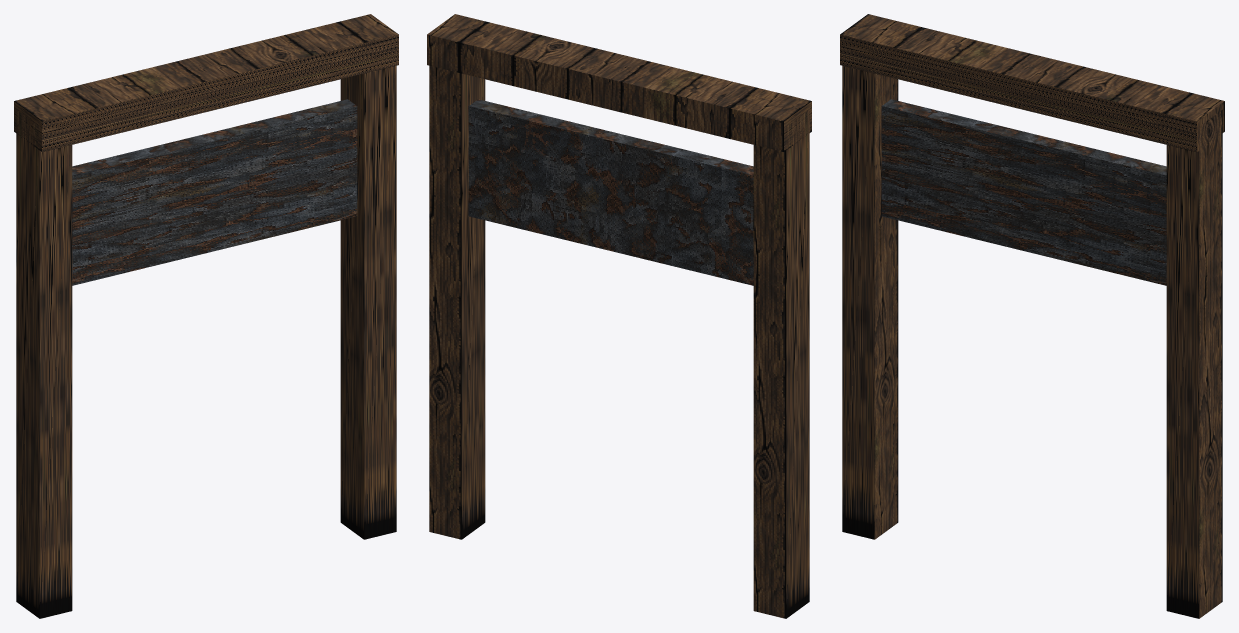
File: D07_Guilhotina_Taxas.obj
3 views of the same model, side by side, from view 1: azimuth 30°, elevation 25°; view 2: azimuth 150°, elevation 25°; view 3: azimuth 330°, elevation 25° (orthographic).
Parts seen in each view (by area): view 1: D07_Guilhotina_Taxas; view 2: D07_Guilhotina_Taxas; view 3: D07_Guilhotina_Taxas.
Part boxes in pixels (<box>): D07_Guilhotina_Taxas: <box>14,14,398,618</box>; D07_Guilhotina_Taxas: <box>427,14,811,618</box>; D07_Guilhotina_Taxas: <box>840,14,1224,618</box>.
Size of the model in its own units: 2.2 by 2.94 by 0.3.
2 materials, 2 textured.
